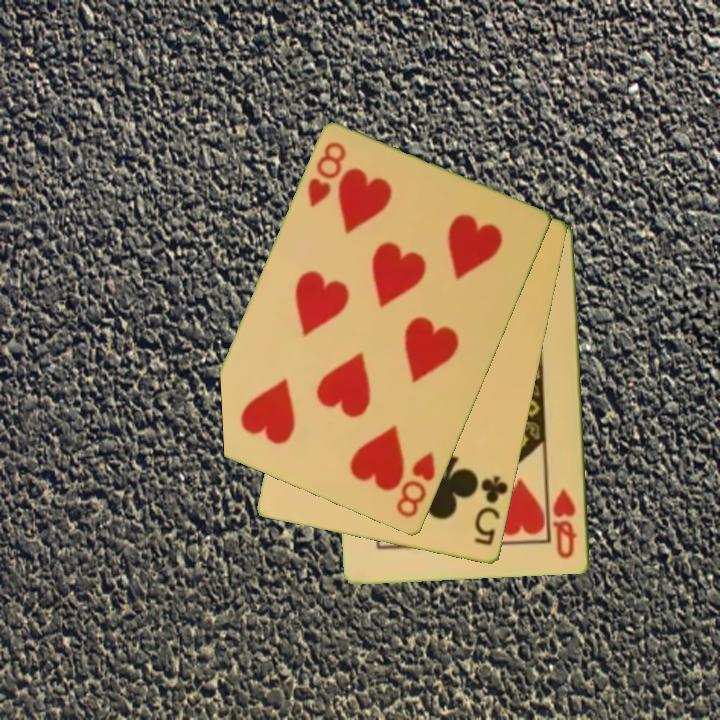5c: (471, 472, 511, 549)
8h: (393, 447, 439, 522), (304, 139, 350, 212)
Qh: (550, 485, 580, 562)
